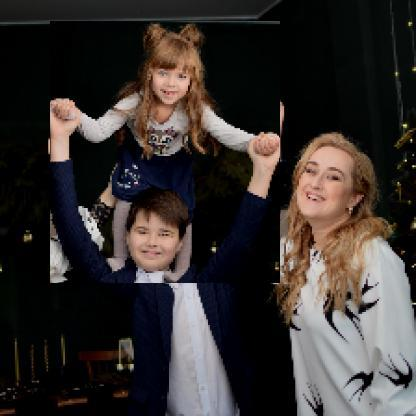child: (51, 22, 282, 285)
